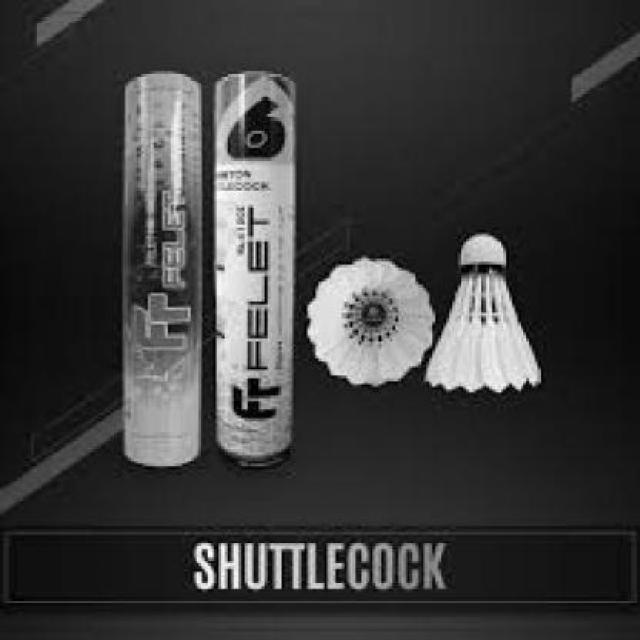Shuttlecock: (429, 232, 551, 394), (304, 246, 436, 385)
